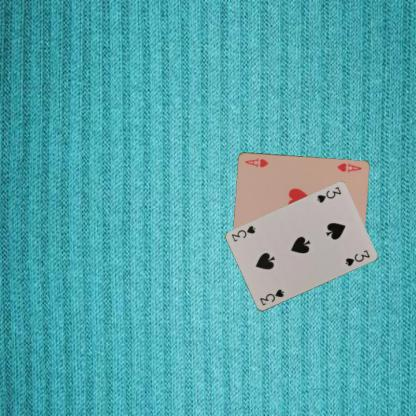3s: (257, 286, 286, 306), (314, 184, 343, 204)
Ah: (334, 161, 363, 174)
